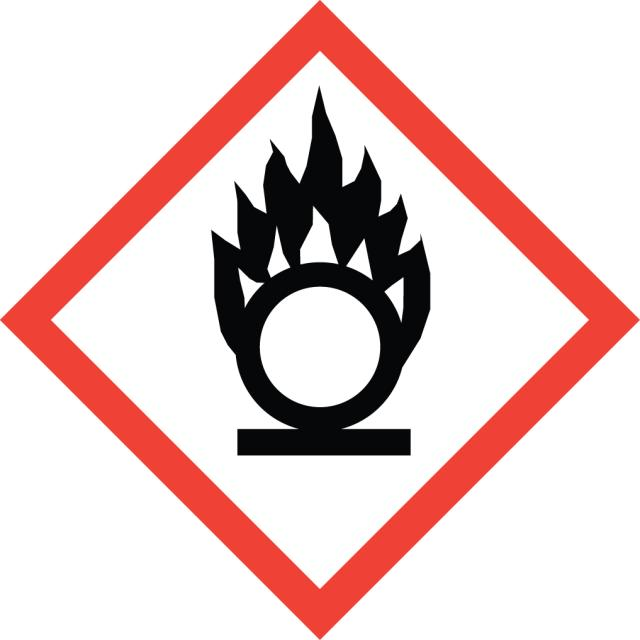oxidizer: (1, 0, 639, 639)
